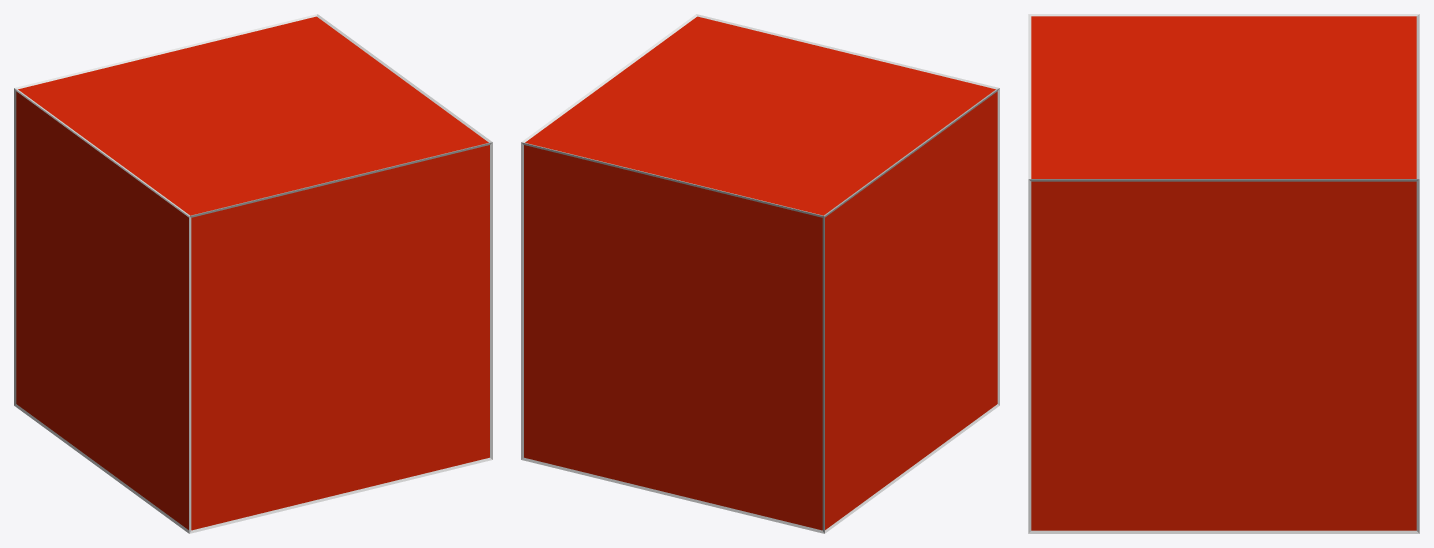
3 views of the same model, side by side, from view 1: azimuth 30°, elevation 25°; view 2: azimuth 150°, elevation 25°; view 3: azimuth 270°, elevation 25° (orthographic). The views are drawn at different scales.
Parts seen in each view (by area): view 1: Cube.006; view 2: Cube.006; view 3: Cube.006.
Part boxes in pixels (x1=…): Cube.006: x1=14, y1=14, x2=492, y2=533; Cube.006: x1=521, y1=14, x2=999, y2=533; Cube.006: x1=1028, y1=14, x2=1419, y2=533.
Size of the model in its own units: 29.64 by 29.64 by 29.64.
